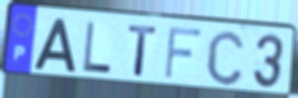3: (250, 32, 285, 90)
A: (31, 16, 77, 73)
C: (204, 28, 247, 88)
F: (162, 25, 205, 82)
L: (82, 20, 114, 75)
T: (126, 23, 160, 79)
